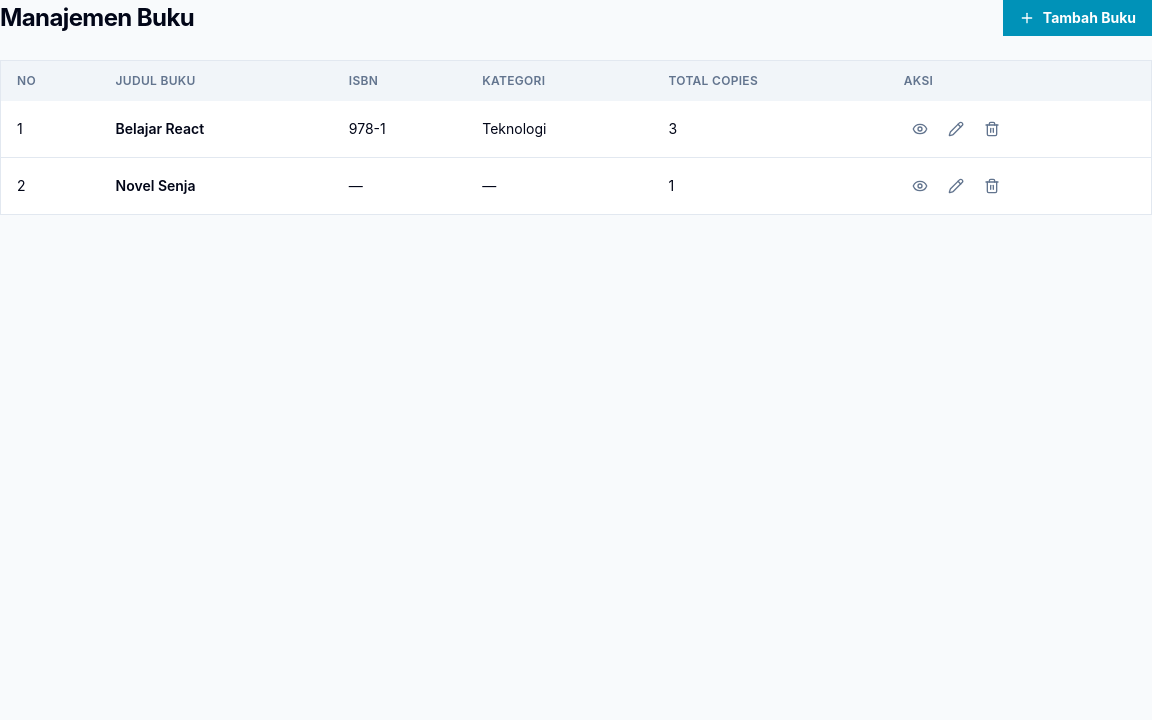
Test: BooksPage › edits a book omitting empty optional fields
Check: the text "Belajar React" is shown, box [100,101,333,158]
Click the button named "Edit" in the row of "Novel Senja" at (956, 186), box [940,170,972,202]
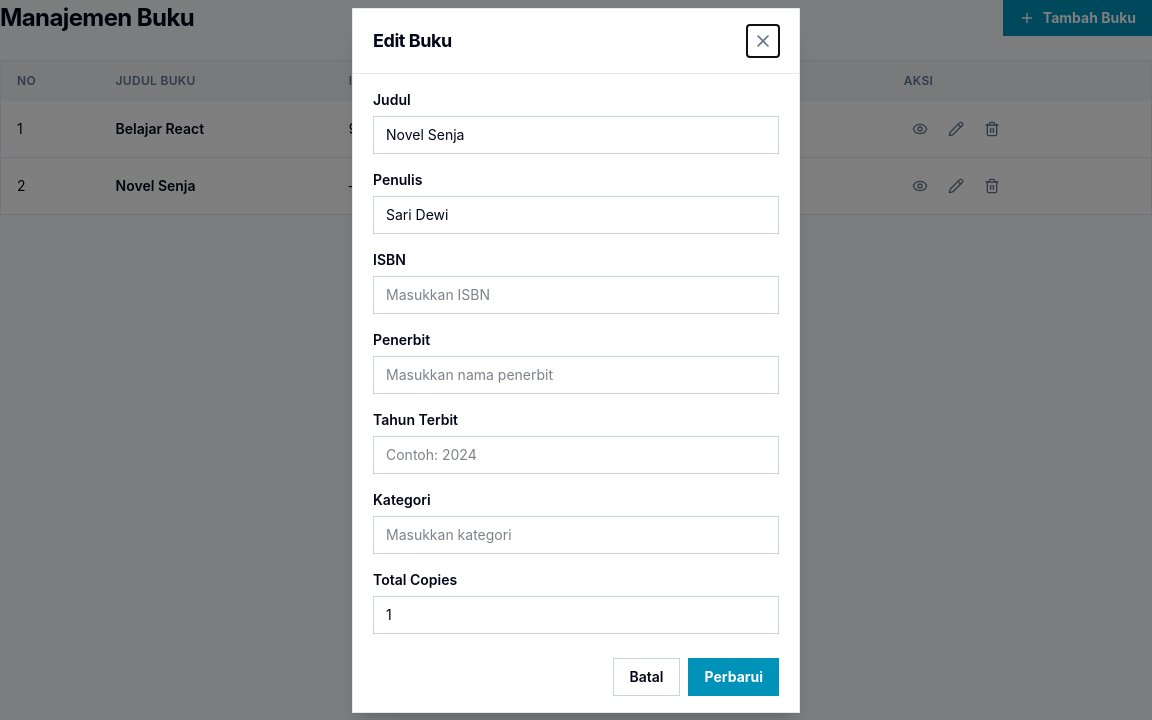
Check: the field labelled "Judul" holds "Novel Senja"
Check: the field labelled "Penulis" holds "Sari Dewi", box [373,196,779,234]
Check: the field labelled "ISBN" is empty, box [373,276,779,314]
Replace the text in the field labelled "Judul" with "Novel Baru" at (576, 134), box [373,116,779,154]
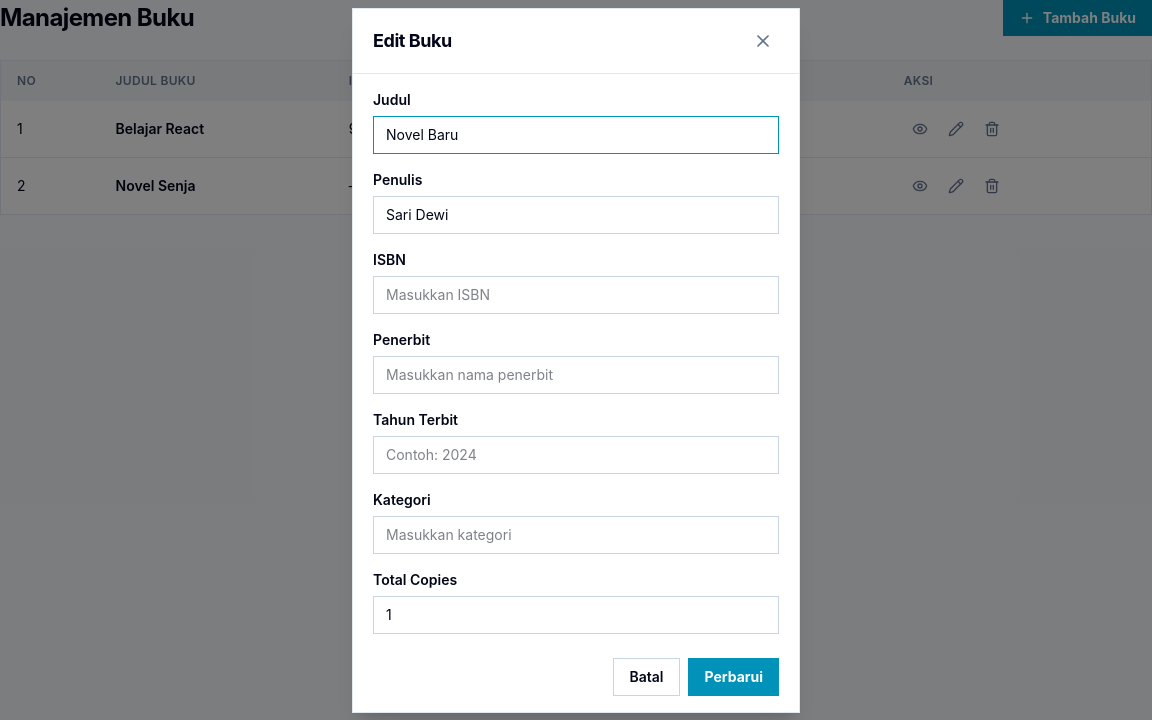
Click the button "Perbarui" at (734, 676), box [688,658,779,696]
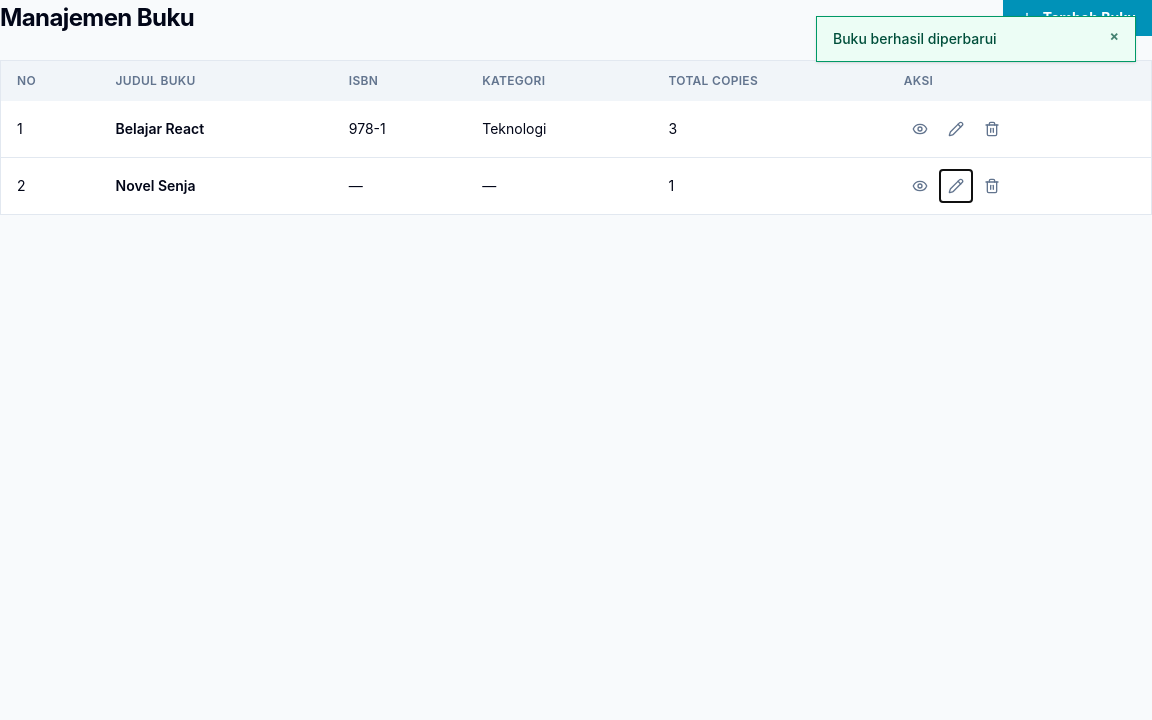
Check: the text "Buku berhasil diperbarui" is shown, box [833,29,997,49]
